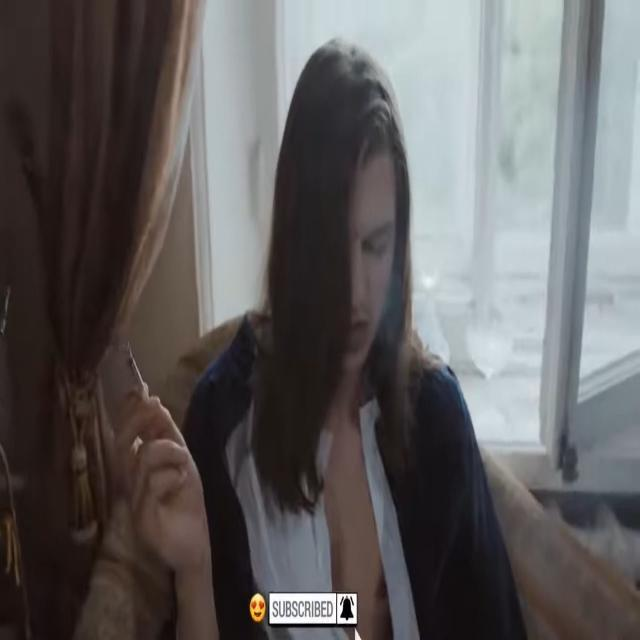Курение: (115, 326, 159, 411)
